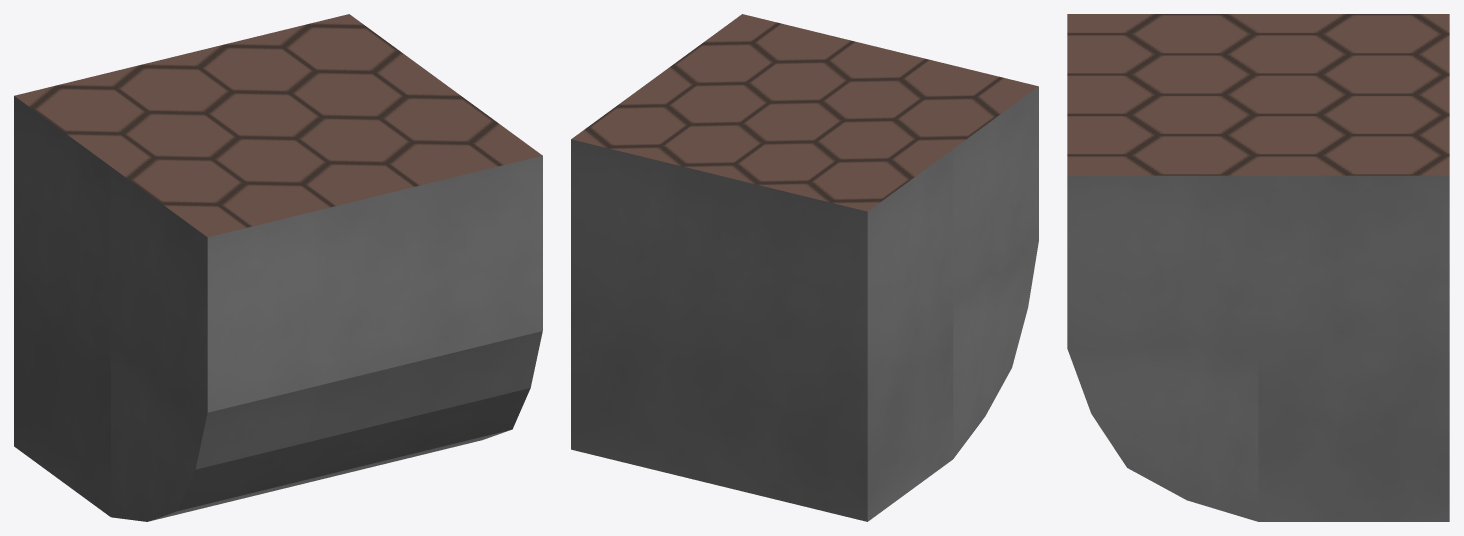
The model's file is dc_metro_mezzanine_2a.obj.
3 renders of one model, left to right at view 1: azimuth 30°, elevation 25°; view 2: azimuth 150°, elevation 25°; view 3: azimuth 270°, elevation 25°, orthographic. The views are drawn at different scales.
Visible parts, largest first — view 1: cube; view 2: cube; view 3: cube.
Boxes of the visible parts, x1=… form: cube: x1=14, y1=14, x2=542, y2=521; cube: x1=571, y1=14, x2=1038, y2=521; cube: x1=1067, y1=14, x2=1449, y2=521.
Bounding box in the file's own units: 1 × 1 × 1.
3 materials, 3 textured.
